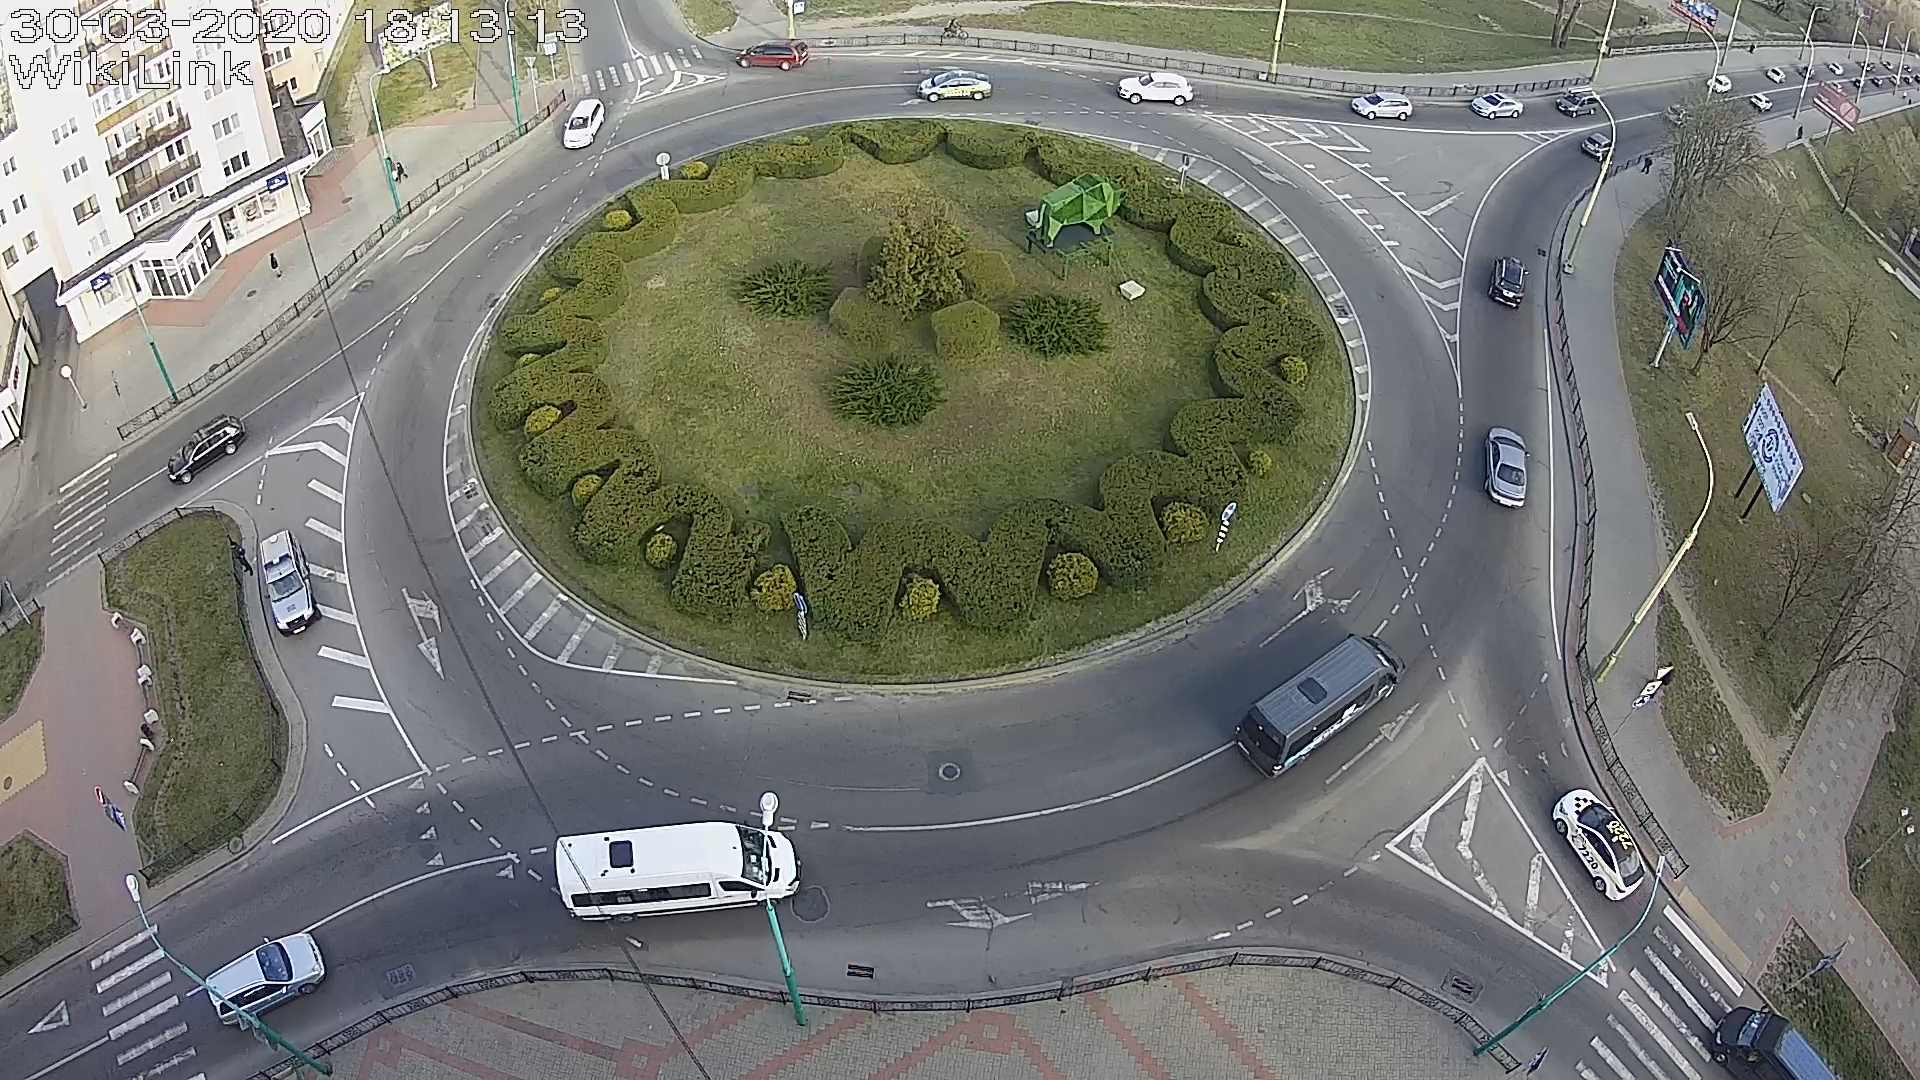car: (1233, 633, 1408, 781), (555, 822, 802, 923), (204, 932, 324, 1029), (1552, 789, 1647, 902), (1710, 1007, 1836, 1080), (258, 529, 322, 637), (167, 413, 247, 485), (1484, 427, 1531, 508), (915, 69, 992, 103), (1116, 73, 1193, 105), (735, 40, 810, 71), (563, 98, 607, 150), (1487, 255, 1528, 310), (1352, 91, 1414, 121), (1472, 91, 1524, 119), (1555, 86, 1600, 117), (1582, 132, 1615, 162)
